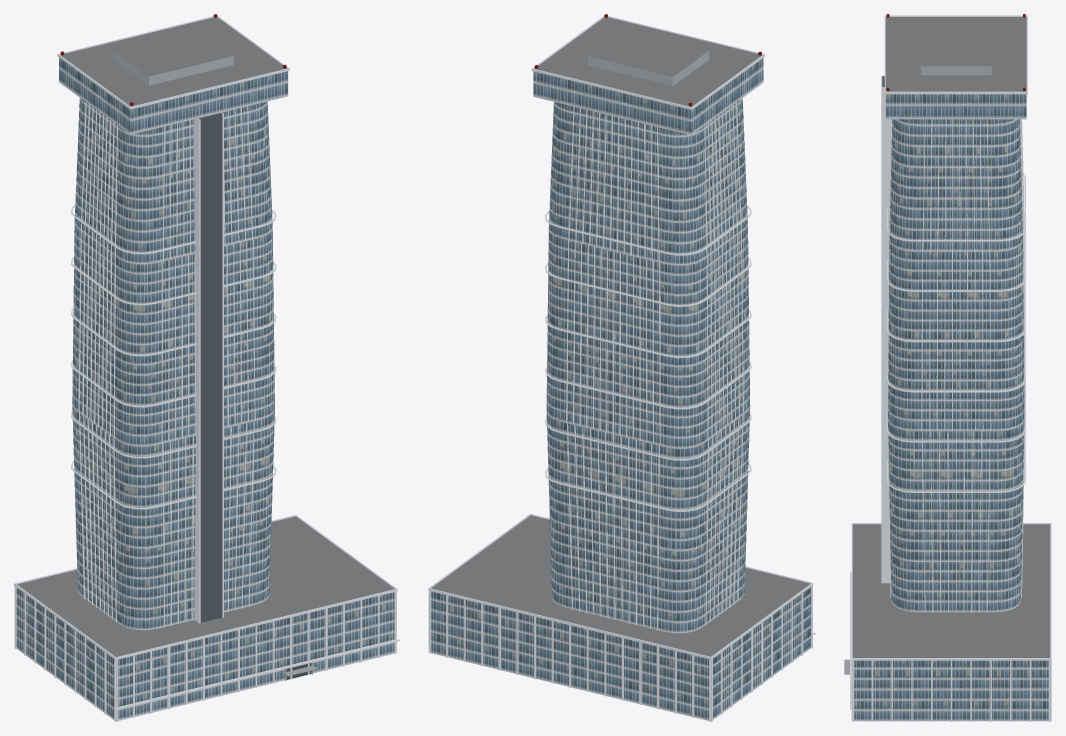
Rendered from toranomon_hills_station_tower.glb.
The picture shows the model from 3 angles, left to right: view 1: azimuth 30°, elevation 25°; view 2: azimuth 150°, elevation 25°; view 3: azimuth 270°, elevation 25°; orthographic projection. The views are drawn at different scales.
Visible parts, largest first — view 1: toranomon_hills_station_tower; view 2: toranomon_hills_station_tower; view 3: toranomon_hills_station_tower.
Part boxes in pixels (bbox=[...]): toranomon_hills_station_tower: bbox=[14, 14, 399, 721]; toranomon_hills_station_tower: bbox=[428, 14, 815, 721]; toranomon_hills_station_tower: bbox=[844, 14, 1051, 721].
Bounding box in the file's own units: 131 × 266 × 84.01.
2 materials, 2 textured.
